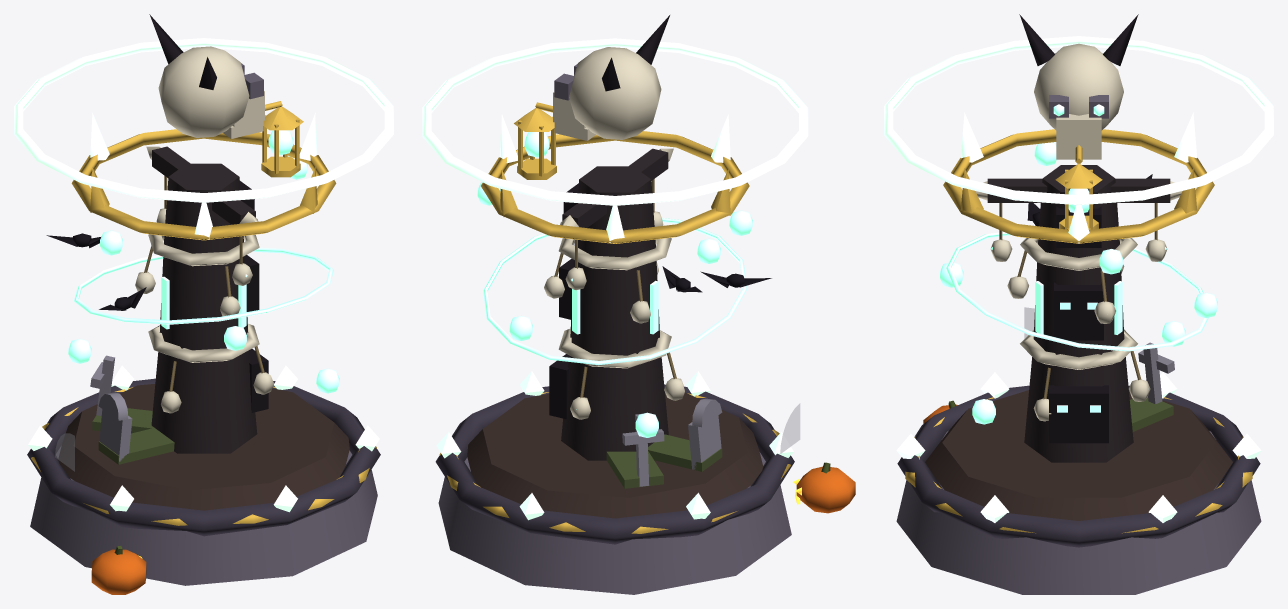
Rendered from tower_necromancer_soulLegion_ultimate.glb.
3 renders of one model, left to right at view 1: azimuth 30°, elevation 25°; view 2: azimuth 150°, elevation 25°; view 3: azimuth 270°, elevation 25°, orthographic. The views are drawn at different scales.
Parts seen in each view (by area): view 1: grave_soil, base, base_rim, ult_halo, pole_0, skull_cranium, ult_crown_band, pole_1, pole_2, wisp_orbit, deco_hw_jack_body, bone_ring_1 (+16 smaller); view 2: grave_soil, base, base_rim, ult_halo, pole_0, skull_cranium, pole_1, ult_crown_band, pole_2, wisp_orbit, deco_hw_jack_body, bone_ring_1 (+13 smaller); view 3: grave_soil, base, base_rim, ult_halo, ult_crown_band, pole_0, skull_cranium, pole_1, pole_face_0, pole_2, pole_face_1, wisp_orbit (+16 smaller).
Part boxes in pixels (x1,y1,x2,y2): grave_soil: (58,384,349,510); base: (30,446,377,585); base_rim: (27,378,380,536); ult_halo: (14,38,393,202); pole_0: (151,350,257,453); skull_cranium: (158,46,249,137); ult_crown_band: (71,129,336,240); pole_1: (159,241,248,350); pole_2: (164,163,243,253); wisp_orbit: (74,247,333,324); deco_hw_jack_body: (91,549,146,594); bone_ring_1: (148,234,259,266); grave_soil: (467,392,763,518); base: (438,452,791,594); base_rim: (435,384,794,544); ult_halo: (422,38,808,205); pole_0: (561,355,668,460); skull_cranium: (569,47,661,139); pole_1: (570,245,659,355); ult_crown_band: (481,131,749,243); pole_2: (574,166,655,257); wisp_orbit: (483,218,747,365); deco_hw_jack_body: (796,466,855,513); bone_ring_1: (558,238,671,270); grave_soil: (925,390,1232,520); base: (896,431,1261,594); base_rim: (897,385,1260,547); ult_halo: (884,36,1273,205); ult_crown_band: (943,129,1214,243); pole_0: (1024,357,1133,462); skull_cranium: (1034,43,1123,130); pole_1: (1033,246,1124,357); pole_face_0: (1049,385,1108,443); pole_2: (1038,165,1119,257); pole_face_1: (1054,282,1103,340); wisp_orbit: (946,232,1208,351).
Bounding box in the file's own units: 0.4395 × 0.5985 × 0.4274.
